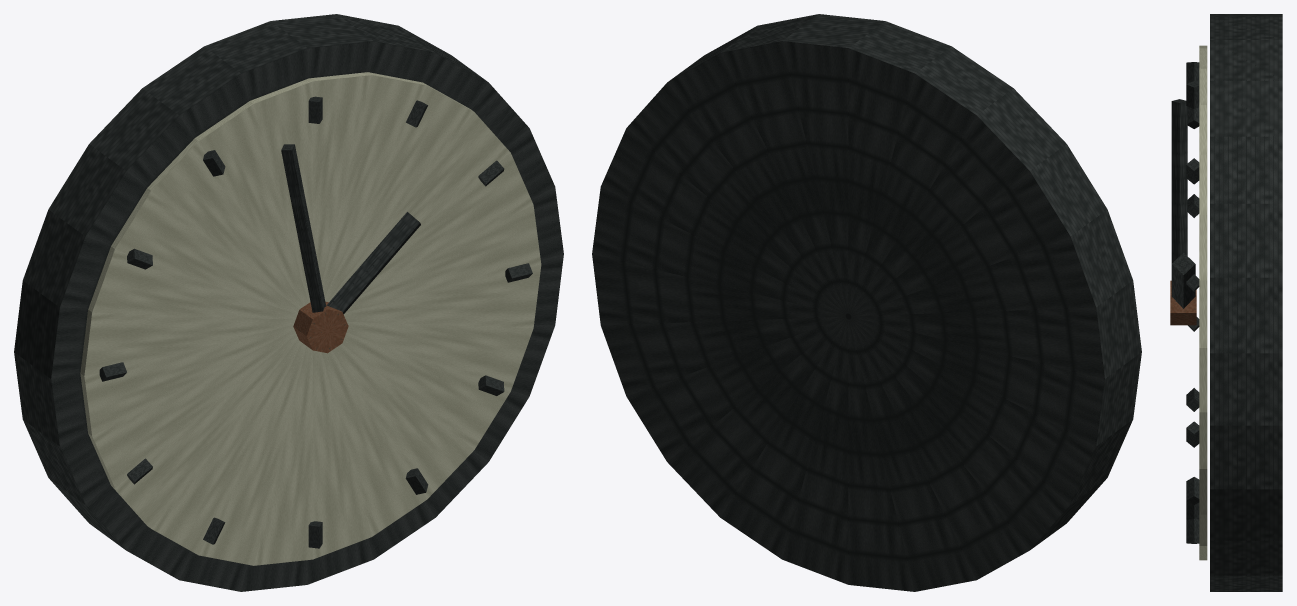
The model's file is WallClock.glb.
The picture shows the model from 3 angles, left to right: view 1: azimuth 30°, elevation 25°; view 2: azimuth 150°, elevation 25°; view 3: azimuth 270°, elevation 25°; orthographic projection. The views are drawn at different scales.
Visible parts, largest first — view 1: WallClock; view 2: WallClock; view 3: WallClock.
Part boxes in pixels (box(x1,y1,x2,y2)): WallClock: box(14, 14, 563, 591); WallClock: box(592, 14, 1141, 591); WallClock: box(1170, 14, 1282, 591).
Size of the model in its own units: 0.44 by 0.44 by 0.085.
3 materials, 3 textured.
